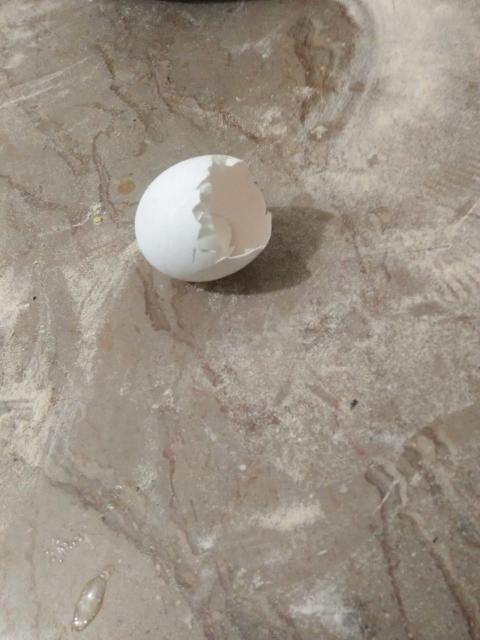Roto: (133, 152, 272, 283)
